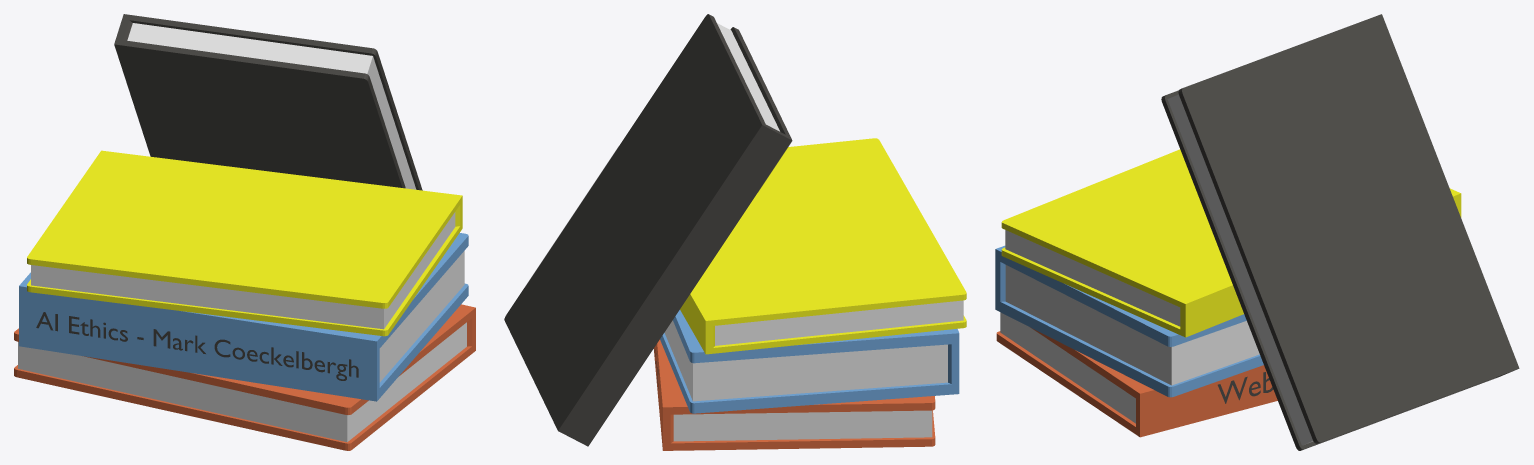
File: books.glb
3 views of the same model, side by side, from view 1: azimuth 30°, elevation 25°; view 2: azimuth 150°, elevation 25°; view 3: azimuth 270°, elevation 25° (orthographic).
Parts seen in each view (by area): view 1: Books; view 2: Books; view 3: Books.
Boxes of the visible parts, <box> form: Books: <box>14,14,475,450</box>; Books: <box>504,14,966,450</box>; Books: <box>995,14,1519,450</box>.
Size of the model in its own units: 0.3344 by 0.2246 by 0.3446.
